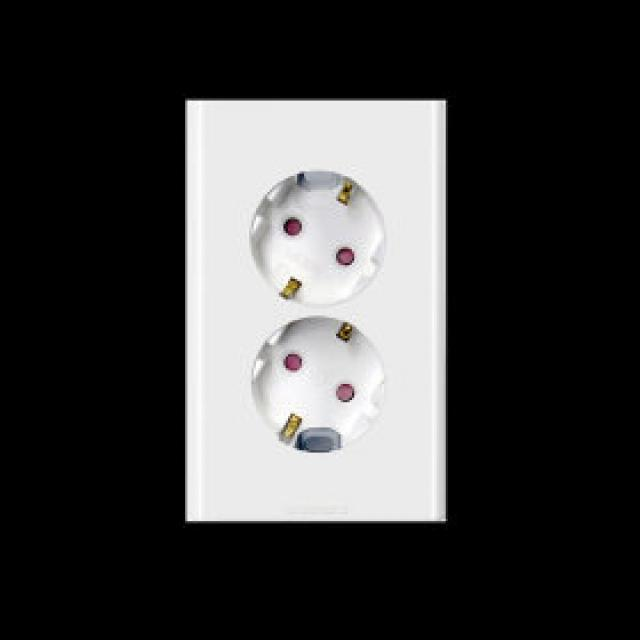typeb: (175, 74, 514, 584)
